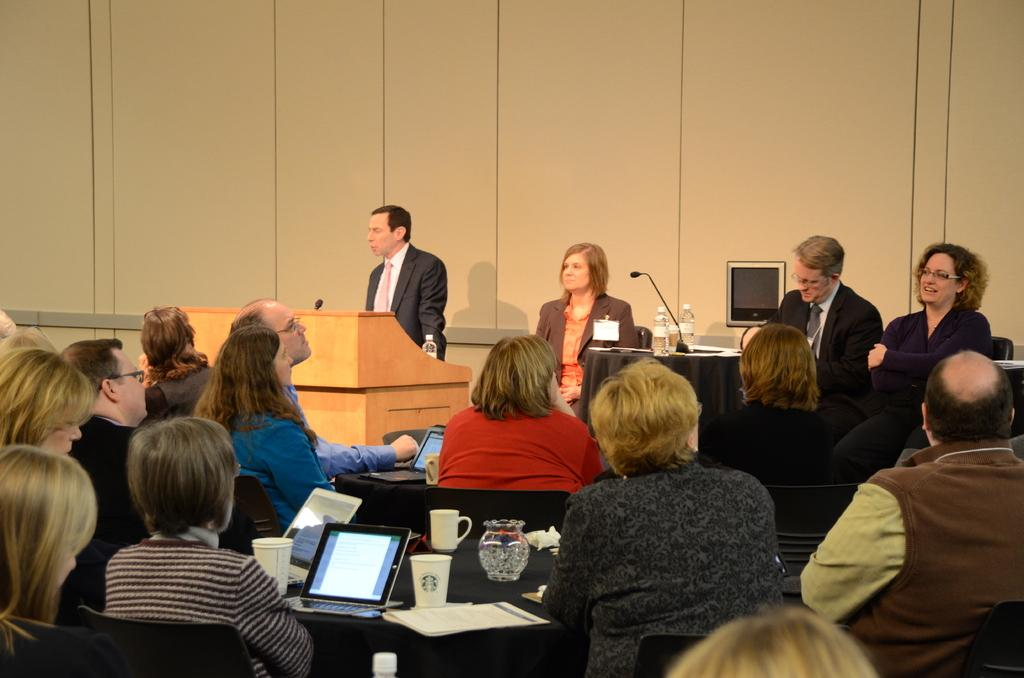Laptop: (280, 485, 362, 587), (359, 426, 445, 483)
